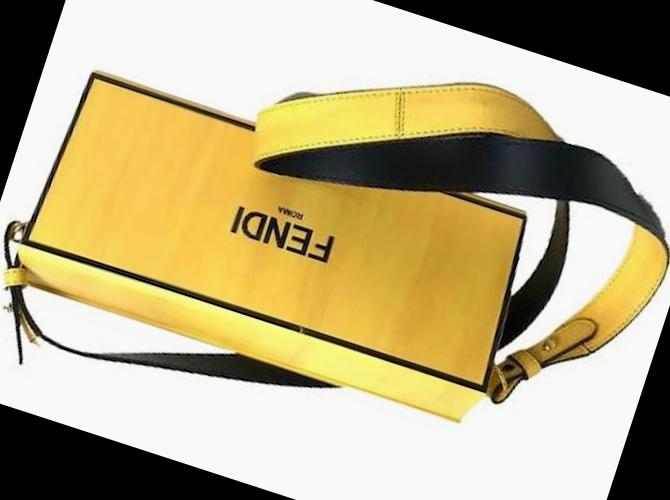FENDI: (228, 204, 334, 263)
